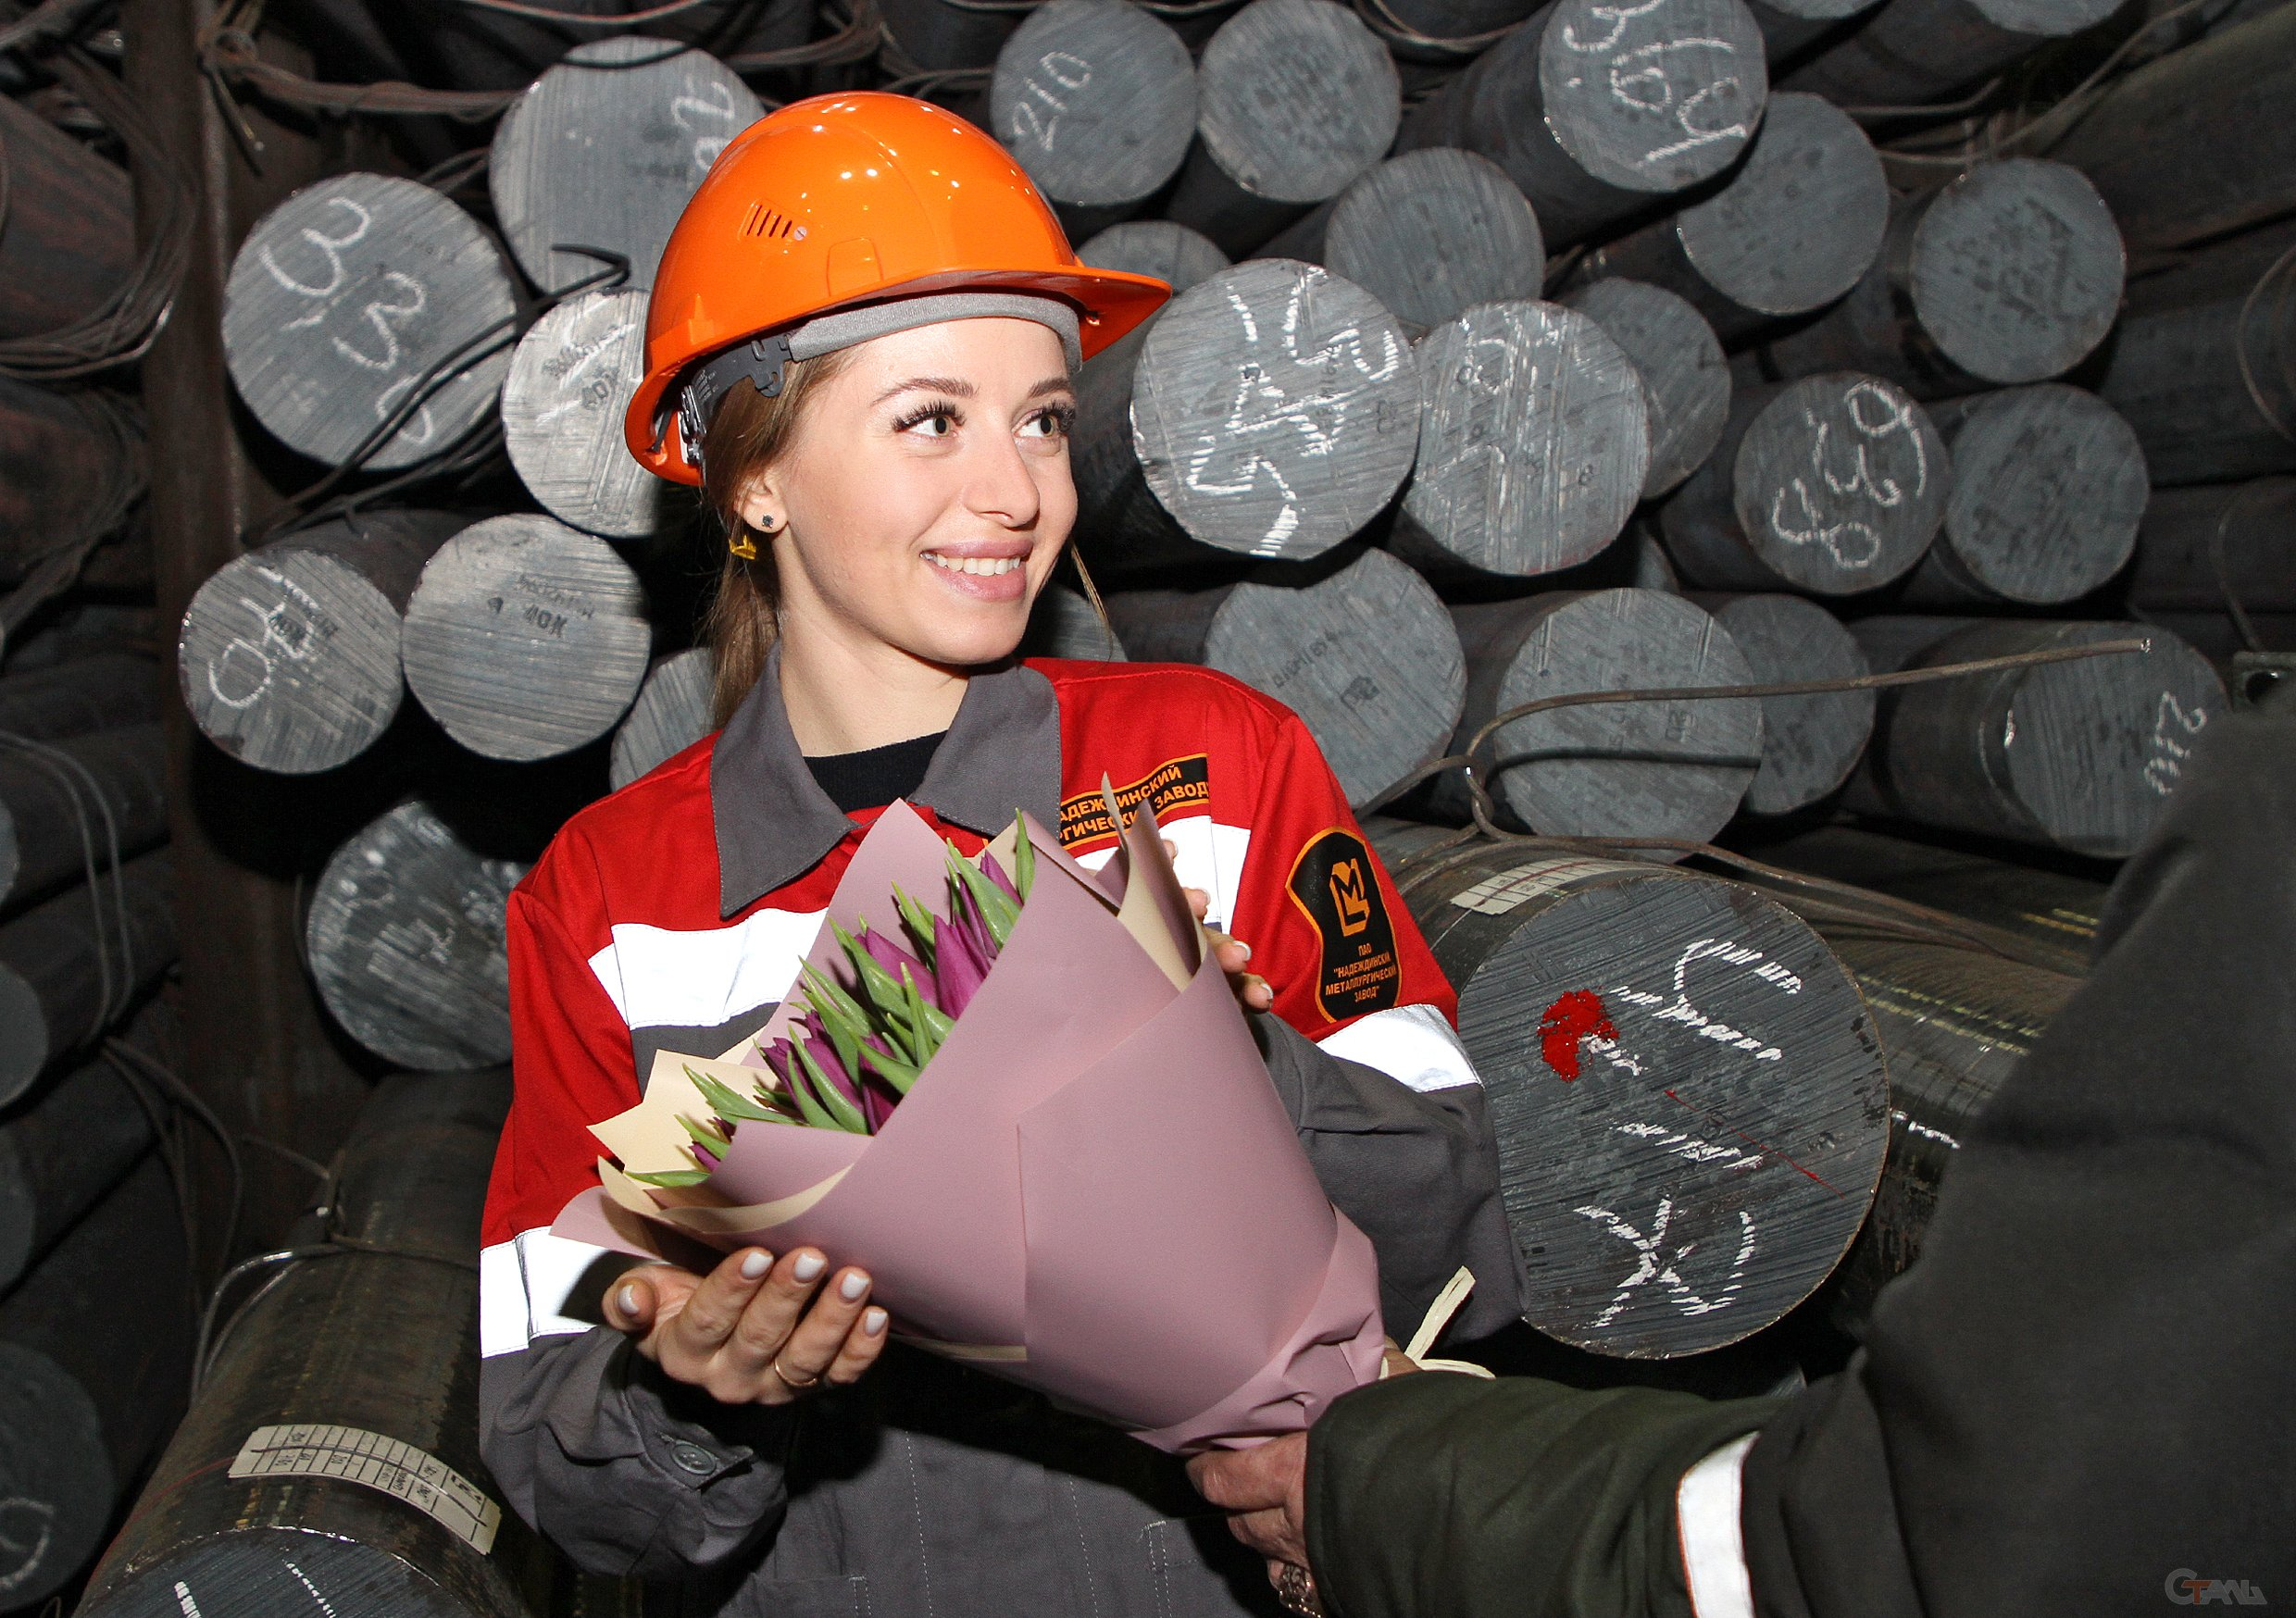person: (477, 91, 1524, 1616), (1183, 691, 2296, 1613)
